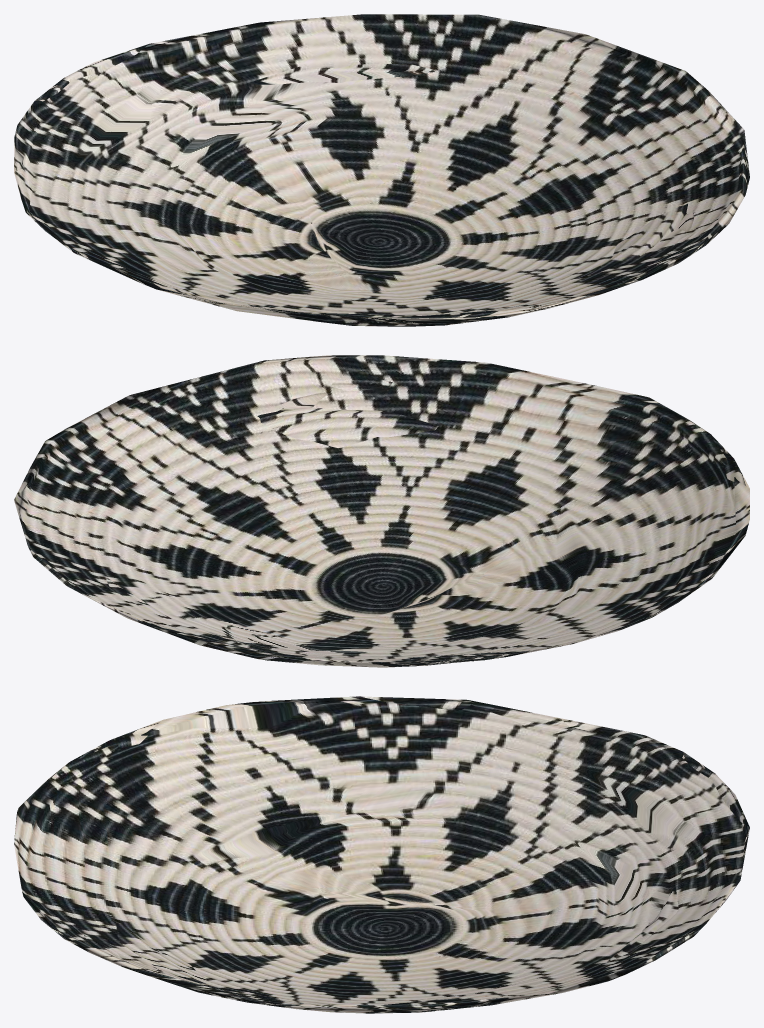
Rendered from Monochrome Tribal Weave.fbx.
3 renders of one model, top to bottom at view 1: azimuth 30°, elevation 25°; view 2: azimuth 150°, elevation 25°; view 3: azimuth 270°, elevation 25°, orthographic.
Visible parts, largest first — view 1: Monochrome Tribal Weave; view 2: Monochrome Tribal Weave; view 3: Monochrome Tribal Weave.
Part boxes in pixels (box(x1,y1,x2,y2)): Monochrome Tribal Weave: box(14, 14, 749, 326); Monochrome Tribal Weave: box(14, 355, 749, 667); Monochrome Tribal Weave: box(14, 696, 749, 1013).
Bounding box in the file's own units: 37.27 × 4.81 × 36.78.
Materials: 1 (1 with a texture image).
